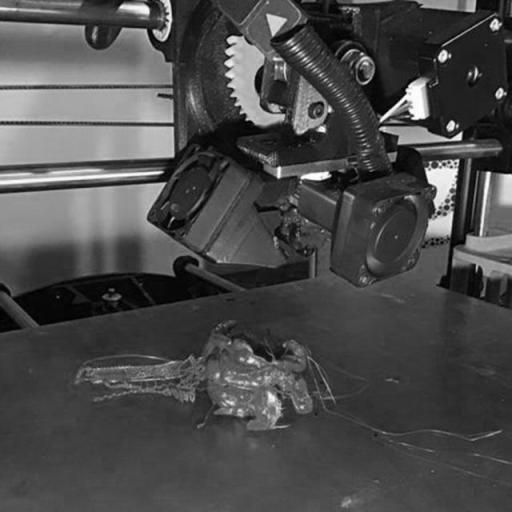spaghetti_and_stringing: (72, 352, 204, 406)
